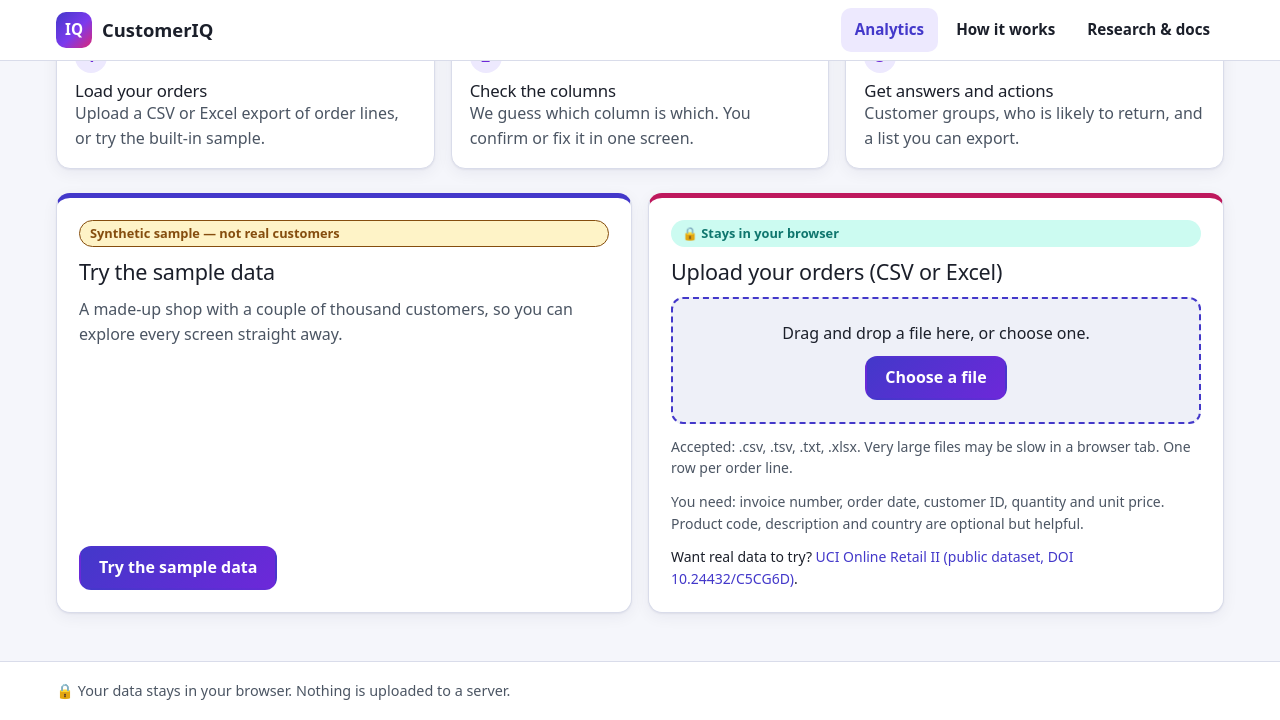
Test: App › runs the sample through to the results dashboard and switches tabs
(page scrolled)
What coordinates should you click on to do the following:
click the button "Try the sample data"
I would click on:
 (178, 568)
Its box is [79, 546, 277, 590].
(page scrolled)
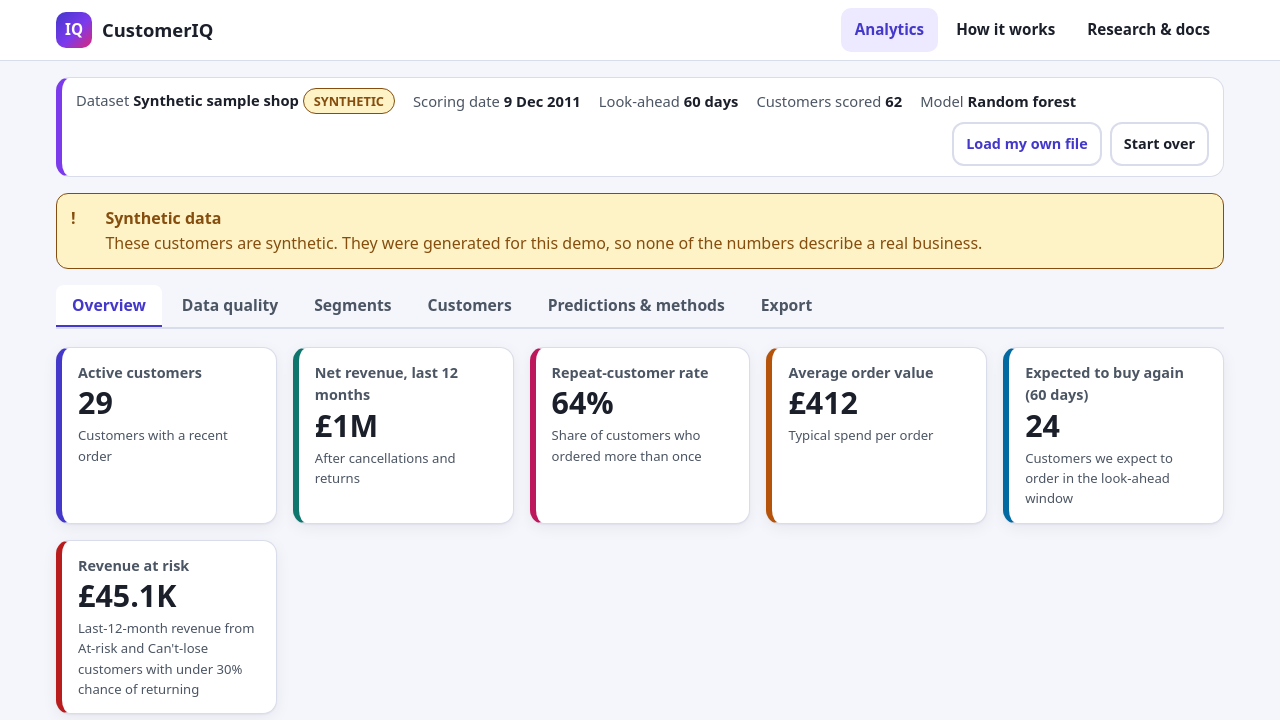
Expected: the element named "results sections" is shown, [56, 285, 1224, 329]
Expected: the text "SYNTHETIC" is shown, [303, 88, 395, 114]
What coordinates should you click on to do the following:
click the tab "Data quality"
I would click on:
 (230, 307)
Its box is [166, 285, 294, 329].
(page scrolled)
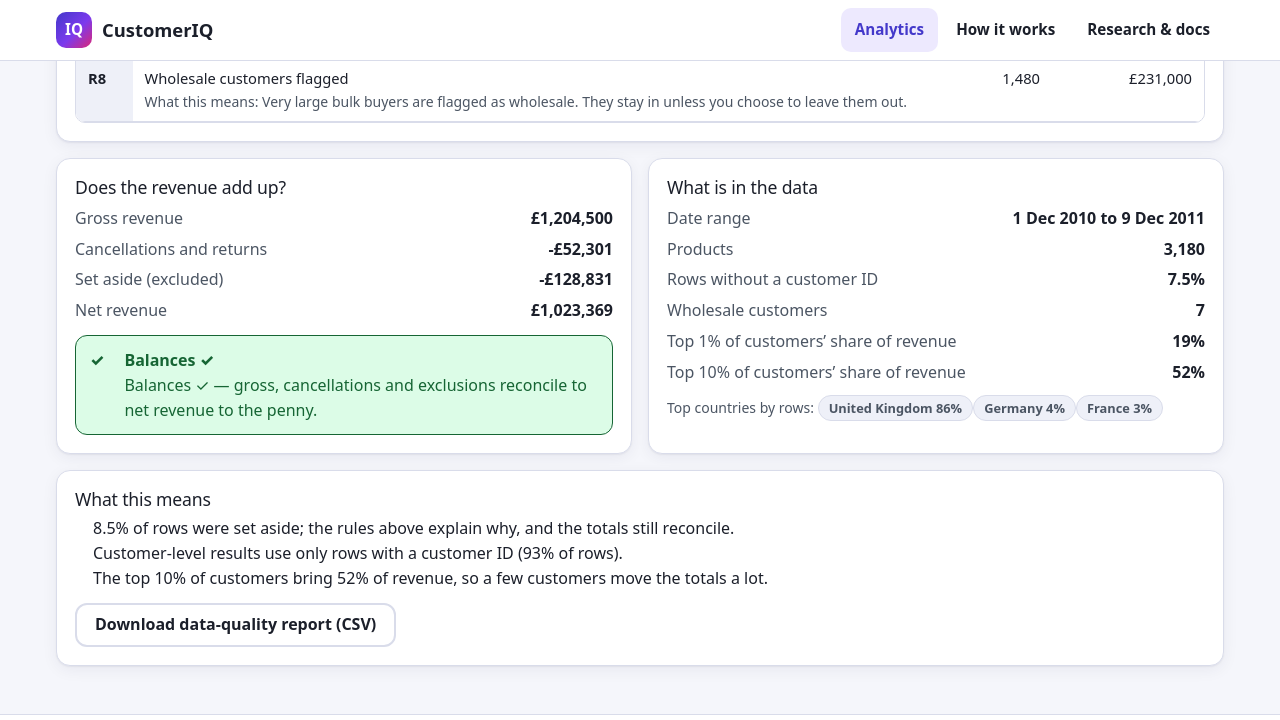
Expected: the text "Balances ✓" is shown, [124, 349, 214, 371]
